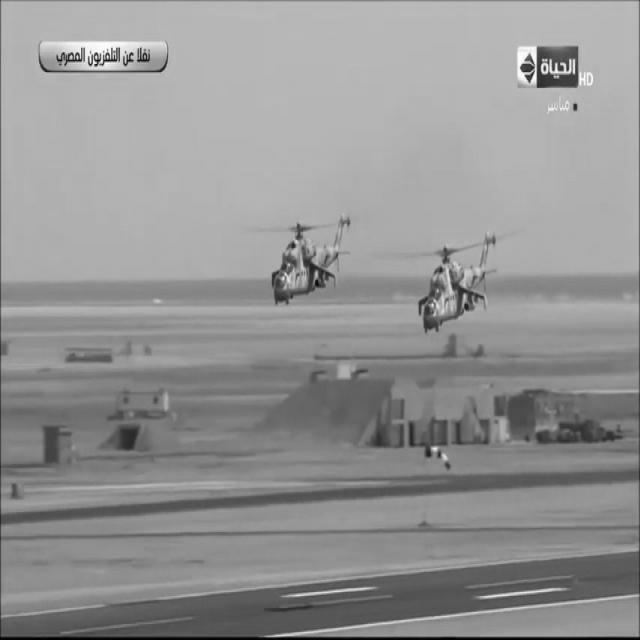helikopter: (406, 234, 494, 340), (267, 204, 352, 300)
